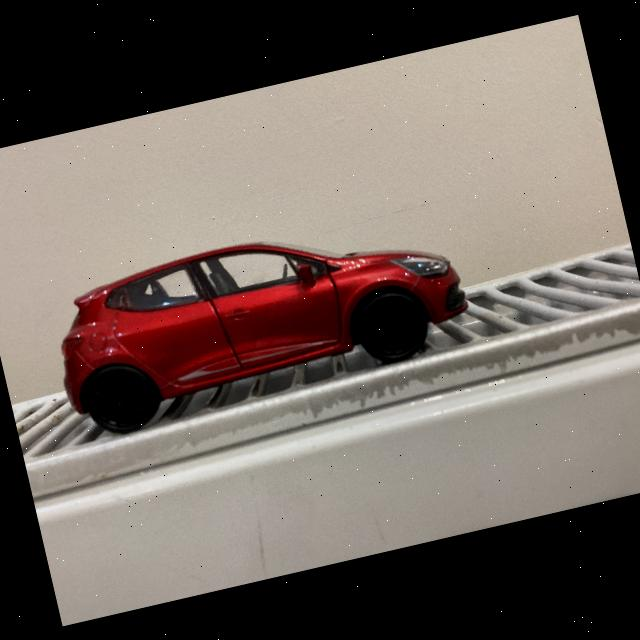Dogru_Jant: (357, 292, 425, 360), (87, 366, 149, 426)
